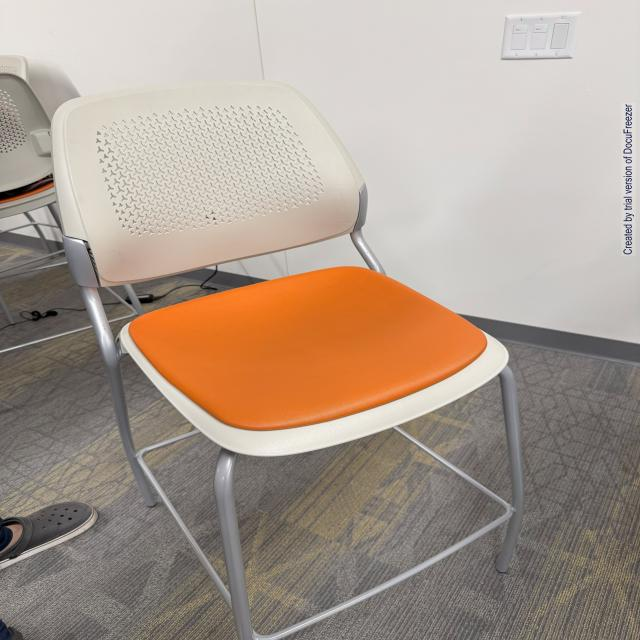chair: (44, 76, 569, 640)
